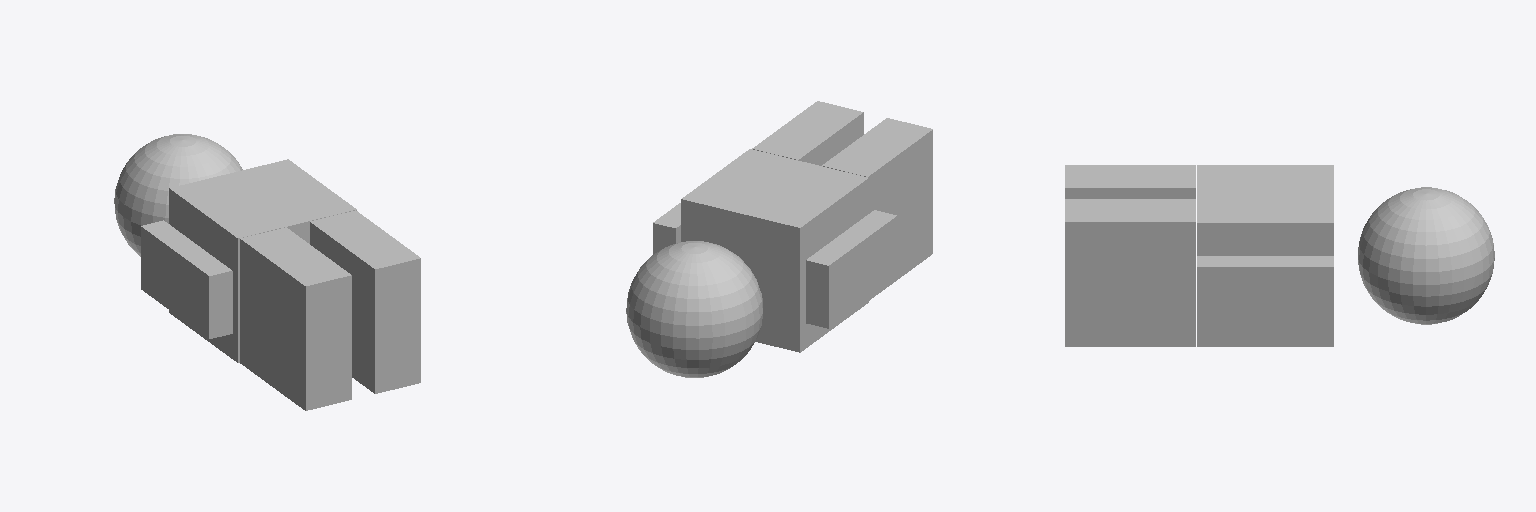
The model's file is rocky_robot_animation_000003.obj.
3 views of the same model, side by side, from view 1: azimuth 30°, elevation 25°; view 2: azimuth 150°, elevation 25°; view 3: azimuth 270°, elevation 25° (orthographic).
Parts seen in each view (by area): view 1: Cube.001_Cube.005, Cube.002, Cube, Cube.004, Sphere.001; view 2: Cube, Sphere.001, Cube.001_Cube.005, Cube.004, Cube.002, Cube.003; view 3: Cube.002, Sphere.001, Cube, Cube.003, Cube.001_Cube.005.
Boxes of the visible parts, x1,y1,x2,y2 form: Cube.001_Cube.005: [240, 227, 351, 410]; Cube.002: [310, 210, 420, 393]; Cube: [169, 159, 356, 362]; Cube.004: [141, 220, 232, 338]; Sphere.001: [114, 134, 242, 256]; Cube: [681, 149, 868, 352]; Sphere.001: [626, 241, 762, 377]; Cube.001_Cube.005: [822, 118, 932, 300]; Cube.004: [806, 210, 897, 328]; Cube.002: [752, 101, 863, 165]; Cube.003: [653, 203, 680, 254]; Cube.002: [1065, 199, 1195, 346]; Sphere.001: [1358, 187, 1494, 324]; Cube: [1197, 165, 1333, 346]; Cube.003: [1197, 256, 1333, 330]; Cube.001_Cube.005: [1065, 165, 1195, 198].
Size of the model in its own units: 0.76 by 0.514 by 1.61.